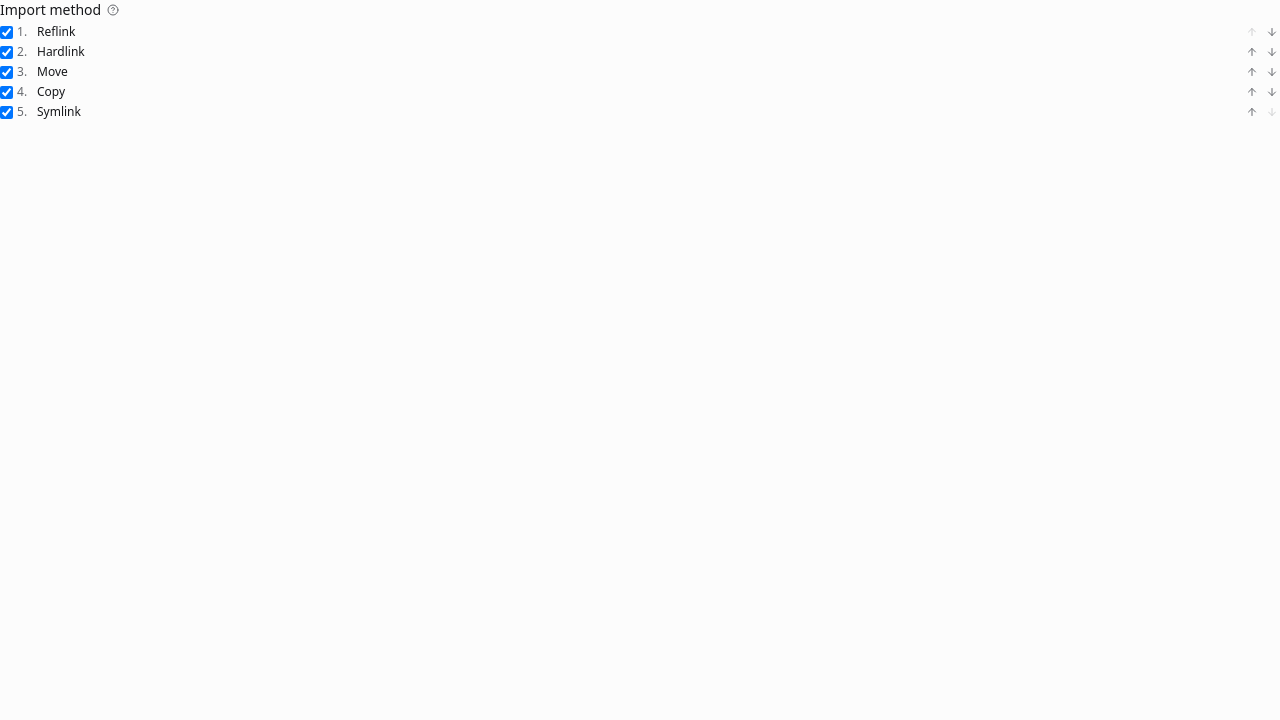
Test case: one help button opens a single dialog covering every method
Check: the text "Reflink" is shown, box 37,23 -> 75,40
Click the button named "What do the import methods do" at [113, 10], box 105,2 -> 121,18
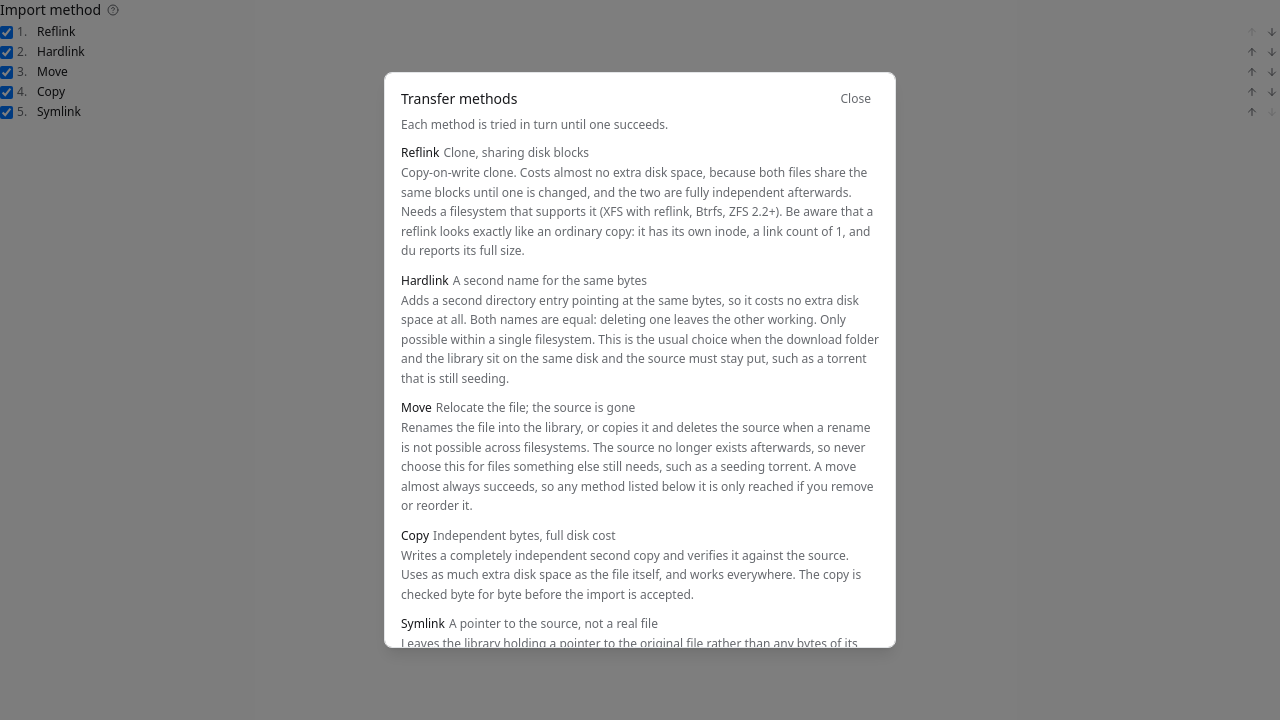
Check: the dialog is shown, box 384,72 -> 896,648
Check: the text "Copy-on-write clone" is shown, box 401,164 -> 873,259
Check: the text "second directory entry" is shown, box 401,292 -> 879,386
